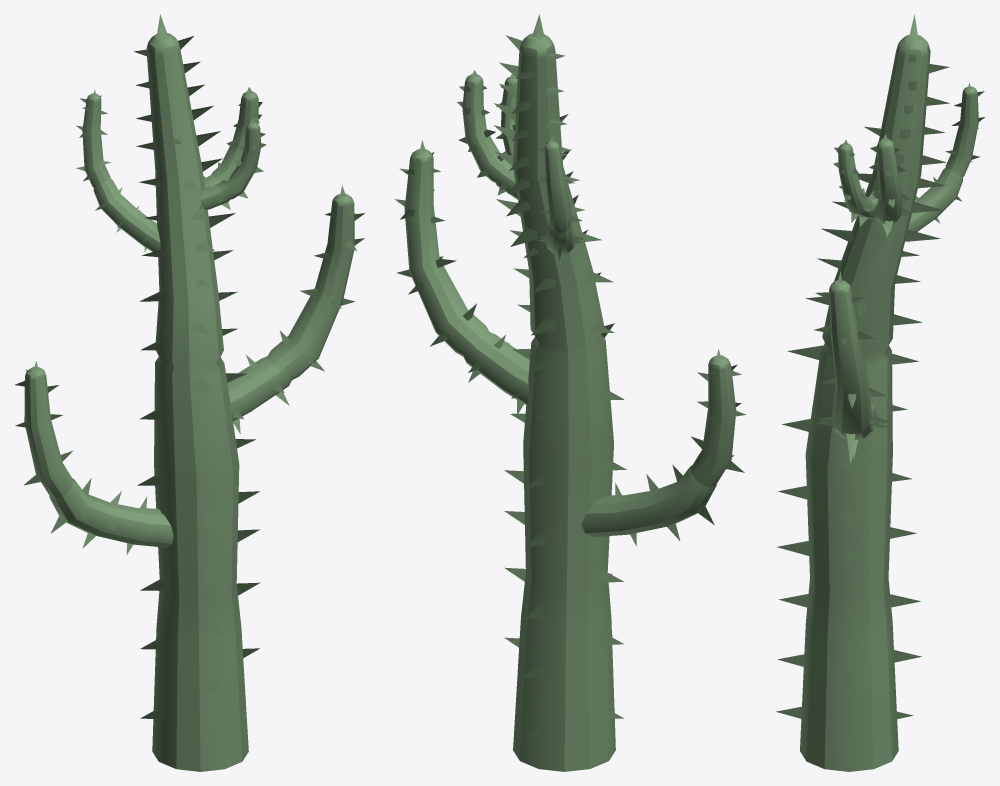
Rendered from Cactus_5.fbx.
3 renders of one model, left to right at view 1: azimuth 30°, elevation 25°; view 2: azimuth 150°, elevation 25°; view 3: azimuth 270°, elevation 25°, orthographic. The views are drawn at different scales.
Visible parts, largest first — view 1: cactus_, cactus_arm_2, cactus_arm, cactus_arm1, cactus_arm_4, cactus_arm_3; view 2: cactus_, cactus_arm_2, cactus_arm, cactus_arm_3, cactus_arm1, cactus_arm_4; view 3: cactus_, cactus_arm_2, cactus_arm1, cactus_arm_3, cactus_arm_4.
Part boxes in pixels (bbox=[...]): cactus_: bbox=[134, 14, 260, 771]; cactus_arm_2: bbox=[227, 185, 365, 433]; cactus_arm: bbox=[15, 361, 173, 554]; cactus_arm1: bbox=[76, 90, 160, 252]; cactus_arm_4: bbox=[199, 118, 266, 211]; cactus_arm_3: bbox=[203, 87, 262, 210]; cactus_: bbox=[493, 14, 626, 771]; cactus_arm_2: bbox=[394, 140, 529, 415]; cactus_arm: bbox=[581, 349, 746, 546]; cactus_arm_3: bbox=[457, 70, 517, 199]; cactus_arm1: bbox=[536, 136, 583, 266]; cactus_arm_4: bbox=[496, 74, 517, 155]; cactus_: bbox=[776, 14, 949, 771]; cactus_arm_2: bbox=[814, 271, 889, 464]; cactus_arm1: bbox=[908, 82, 984, 242]; cactus_arm_3: bbox=[869, 134, 910, 237]; cactus_arm_4: bbox=[833, 139, 878, 226].
Size of the model in its own units: 2.08 by 4.18 by 1.09.
